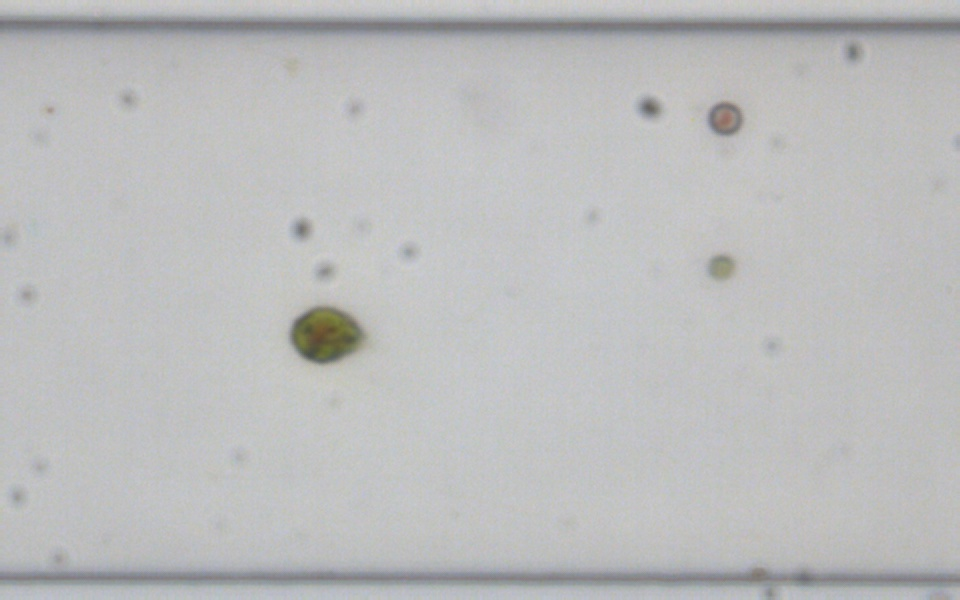Chlorella: (707, 254, 734, 279)
Haematococcus: (284, 302, 367, 367)
Porphyridium: (704, 99, 744, 136)
